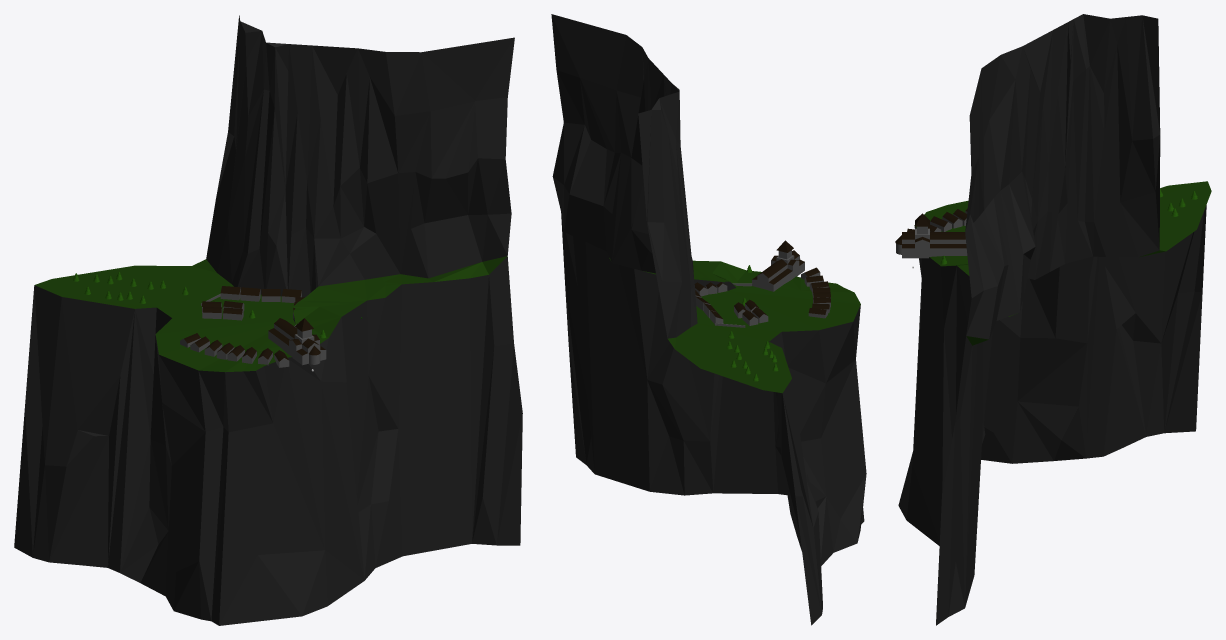
Rendered from monasteryV1.FBX.
3 views of the same model, side by side, from view 1: azimuth 30°, elevation 25°; view 2: azimuth 150°, elevation 25°; view 3: azimuth 270°, elevation 25° (orthographic). The views are drawn at different scales.
Visible parts, largest first — view 1: Plane002, kirche, Object001; view 2: Plane002, kirche; view 3: Plane002, kirche.
Boxes of the visible parts, <box> form: Plane002: <box>14,15,522,625</box>; kirche: <box>268,318,326,365</box>; Object001: <box>293,274,401,313</box>; Plane002: <box>551,14,866,625</box>; kirche: <box>752,240,804,291</box>; Plane002: <box>898,14,1211,625</box>; kirche: <box>895,213,967,258</box>.
Size of the model in its own units: 30380 by 36716 by 20313.
